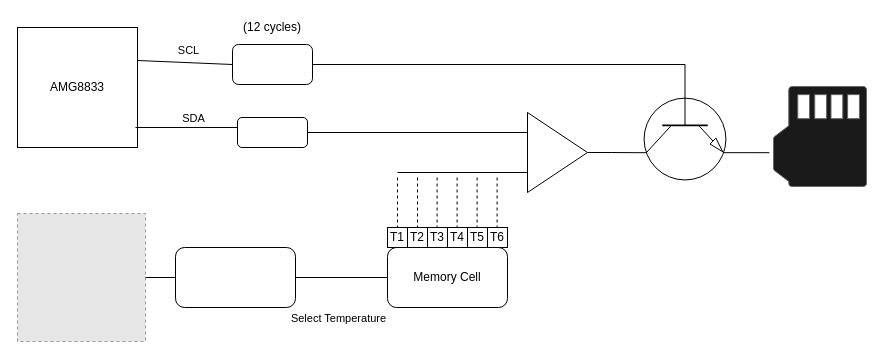
This 884x359 diagram has some shape labels left out. Grey dashed boxes stand in for pictures. The centre of each missing label's shape, as x and y in pixels:
Analog Switch Selector: point 235,277
D to A: point 272,132
Seq Counter: point 272,64
